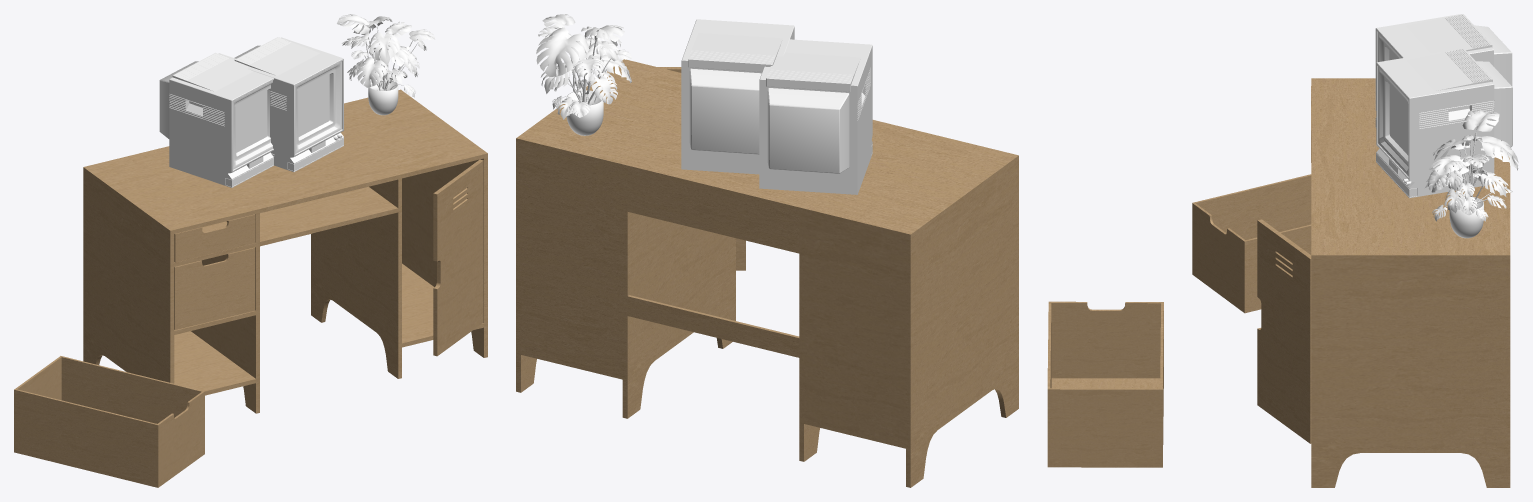
File: desk_recurso_2.gltf
3 renders of one model, left to right at view 1: azimuth 30°, elevation 25°; view 2: azimuth 150°, elevation 25°; view 3: azimuth 270°, elevation 25°, orthographic. The views are drawn at different scales.
Visible parts, largest first — view 1: deskBox, deskBottomDrawer, PC, PC.001, deskDoor, deskMiddleDrawer, Leaves, deskTopDrawer, Pot_LP; view 2: deskBox, deskBottomDrawer, PC, PC.001, Leaves, Pot_LP; view 3: deskBox, PC.001, deskDoor, deskBottomDrawer, PC, Leaves, Pot_LP, root_HP_1.
Part boxes in pixels (<box>): deskBox: <box>83,89,487,413</box>; deskBottomDrawer: <box>14,356,204,487</box>; PC: <box>159,52,274,187</box>; PC.001: <box>234,37,343,171</box>; deskDoor: <box>433,159,483,356</box>; deskMiddleDrawer: <box>174,247,255,329</box>; Leaves: <box>337,14,435,97</box>; deskTopDrawer: <box>174,214,255,262</box>; Pot_LP: <box>368,78,398,115</box>; deskBox: <box>516,59,1018,487</box>; deskBottomDrawer: <box>1047,301,1163,467</box>; PC: <box>759,39,872,194</box>; PC.001: <box>681,19,794,174</box>; Leaves: <box>536,14,631,119</box>; Pot_LP: <box>566,90,603,135</box>; deskBox: <box>1311,78,1510,487</box>; PC.001: <box>1376,48,1512,198</box>; deskDoor: <box>1257,219,1311,443</box>; deskBottomDrawer: <box>1192,174,1311,313</box>; PC: <box>1375,14,1512,127</box>; Leaves: <box>1425,109,1518,221</box>; Pot_LP: <box>1449,196,1483,238</box>; root_HP_1: <box>1445,124,1496,210</box>.
Size of the model in its own units: 173 by 108 by 93.62.
9 materials, 5 textured.
